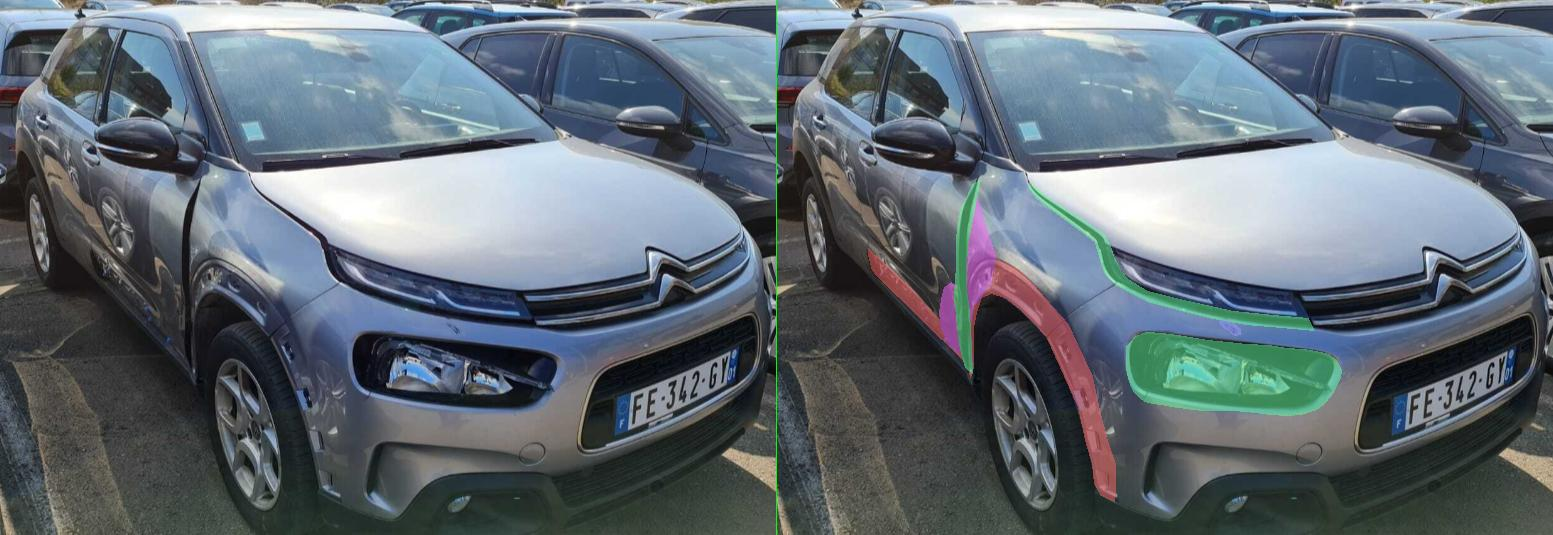Broken part: (504, 182, 1075, 330), (698, 332, 1129, 415), (354, 179, 406, 373)
Dent: (372, 191, 436, 366), (324, 282, 378, 358)
Missing part: (370, 258, 676, 501), (182, 248, 372, 360)
Scratch: (885, 317, 927, 335)
